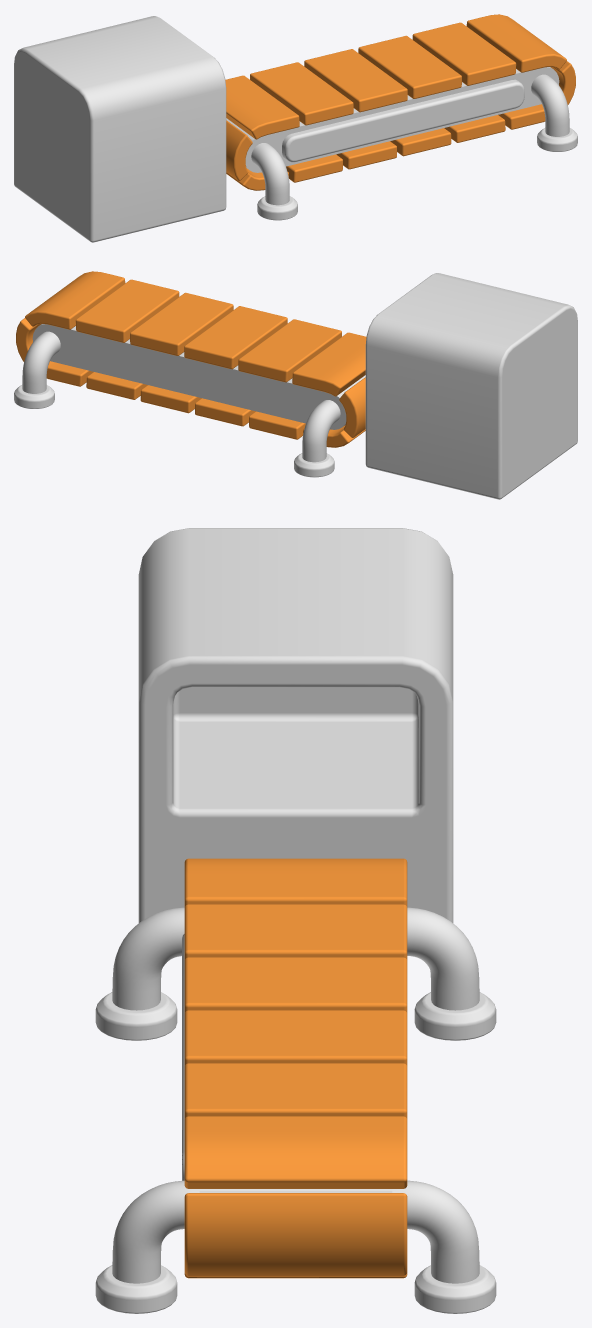
Rendered from 098-belt.fbx.
3 renders of one model, top to bottom at view 1: azimuth 30°, elevation 25°; view 2: azimuth 150°, elevation 25°; view 3: azimuth 270°, elevation 25°, orthographic. The views are drawn at different scales.
Visible parts, largest first — view 1: Plane.004, Plane.001, Plane.003, Plane.002, Vert, Circle; view 2: Plane.004, Plane.001, Plane.002, Vert, Circle; view 3: Plane.004, Plane.001, Vert, Circle.
Part boxes in pixels (x1,y1,x2,y2): Plane.004: (14, 16, 226, 242); Plane.001: (225, 14, 575, 190); Plane.003: (282, 79, 524, 162); Plane.002: (226, 67, 559, 172); Vert: (251, 74, 569, 205); Circle: (257, 128, 577, 220); Plane.004: (365, 273, 577, 499); Plane.001: (16, 271, 366, 447); Plane.002: (32, 324, 365, 429); Vert: (22, 331, 340, 462); Circle: (14, 385, 334, 477); Plane.004: (138, 528, 453, 922); Plane.001: (184, 858, 407, 1278); Vert: (112, 907, 479, 1283); Circle: (95, 992, 496, 1313).
Size of the model in its own units: 730 by 223 by 255.
